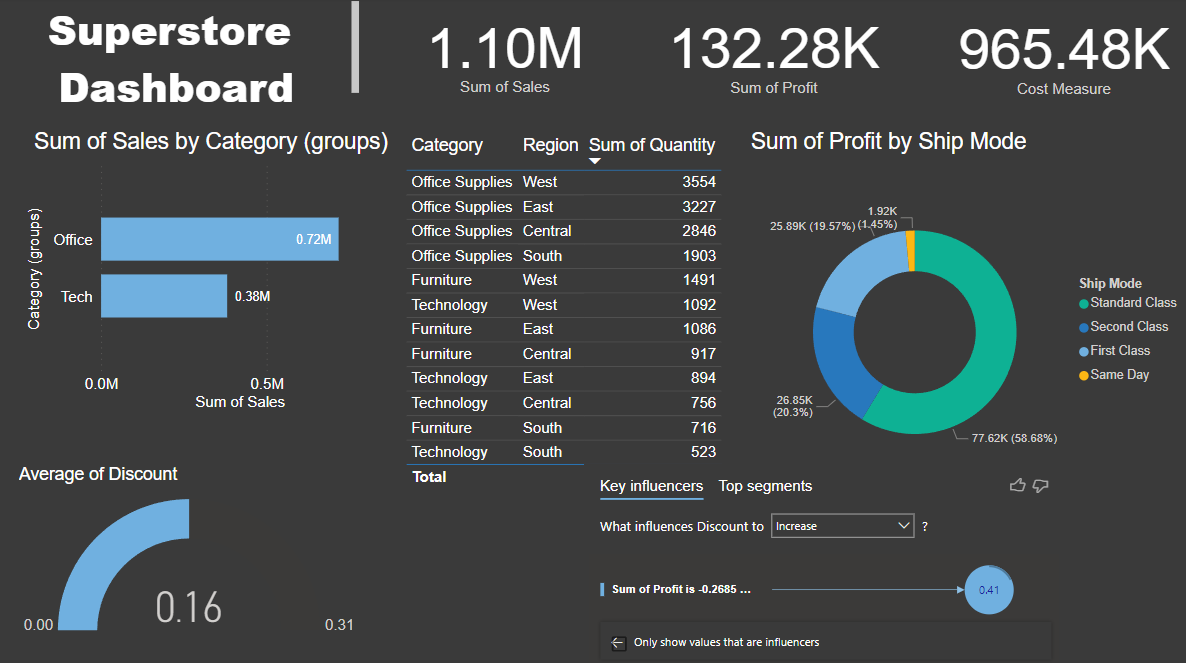

Layout of this report page (visuals, bound fields, positions):
{"tool":"powerbi","page":{"name":"Page 2","canvas":[1280,720],"ordinal":1},"visuals":[{"type":"card","fields":{"Values":["Sum(Sample - Superstore.Sales)"]},"box":[416.1,0,245.2,117.7],"z":2},{"type":"card","fields":{"Values":["Sum(Sample - Superstore.Profit)"]},"box":[703.8,0,239.5,118.1],"z":3},{"type":"textbox","box":[0,0,389.9,118.1],"z":4},{"type":"gauge","fields":{"Y":["Avg(Sample - Superstore.Discount)"]},"box":[19.1,495.9,370.3,197.1],"z":6},{"type":"tableEx","fields":{"Values":["Category.Category","Sample - Superstore.Region","Sum(Sample - Superstore.Quantity)"]},"box":[429,140.3,366.1,393.5],"z":7},{"type":"card","fields":{"Values":["Category.Cost Measure"]},"box":[996.8,1.6,269.4,117.7],"z":8},{"type":"clusteredBarChart","fields":{"Y":["Sum(Sample - Superstore.Sales)"],"Category":["Category.Category (groups)"]},"box":[27.4,140.3,401.6,303.2],"z":9},{"type":"donutChart","fields":{"Category":["Shipment.Ship Mode"],"Y":["Sum(Sample - Superstore.Profit)"]},"box":[795.2,140.3,471,404.8],"z":10},{"type":"keyDriversVisual","fields":{"ExplainBy":["Sum(Sample - Superstore.Profit)"],"Target":["Sample - Superstore.Discount"]},"box":[623,495.9,508.6,224.1],"z":11}]}

Visuals, with their boxes in screenshot pixels (x1, y1, x2, y2), scaled from the page's 1280x720 canvas onto the 1186x663 screenshot:
card - Sum(Sample - Superstore.Sales): <box>386,0,613,108</box>
card - Sum(Sample - Superstore.Profit): <box>652,0,874,109</box>
textbox: <box>0,0,361,109</box>
gauge - Avg(Sample - Superstore.Discount): <box>18,457,361,638</box>
tableEx - Category.Category x Sample - Superstore.Region: <box>397,129,737,492</box>
card - Category.Cost Measure: <box>924,1,1173,110</box>
clusteredBarChart - Sum(Sample - Superstore.Sales) x Category.Category (groups): <box>25,129,397,408</box>
donutChart - Shipment.Ship Mode x Sum(Sample - Superstore.Profit): <box>737,129,1173,502</box>
keyDriversVisual - Sum(Sample - Superstore.Profit) x Sample - Superstore.Discount: <box>577,457,1048,662</box>
